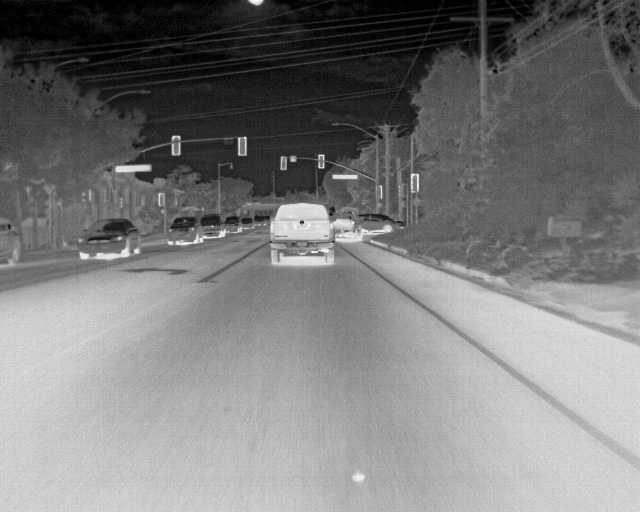vehicle: (269, 202, 334, 266), (81, 219, 142, 263), (350, 214, 406, 239), (169, 216, 205, 247), (202, 215, 226, 239), (228, 213, 244, 236)
